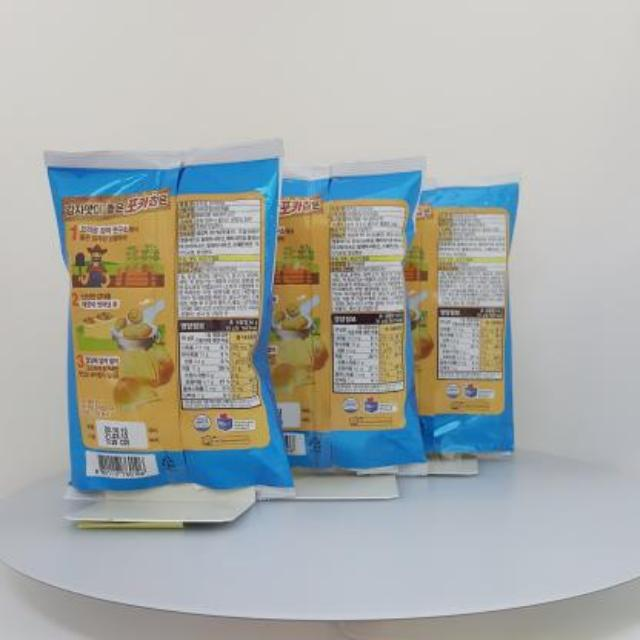snack_bag: (35, 126, 535, 520)
